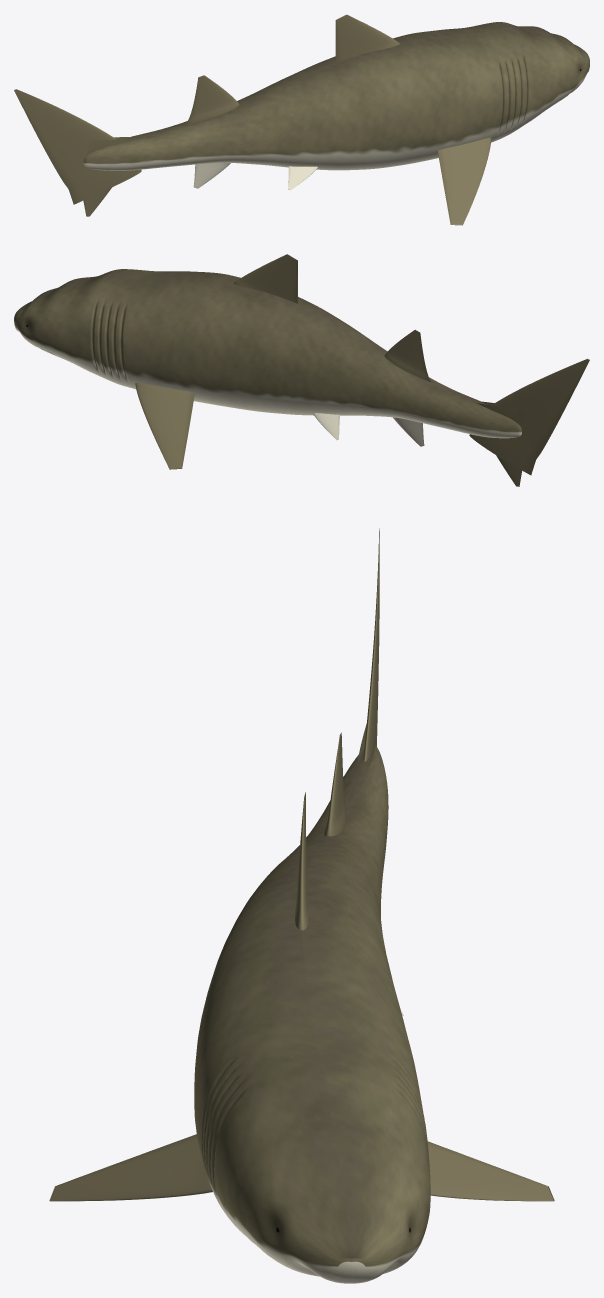
File: lemon_shark.glb
The picture shows the model from 3 angles, top to bottom: view 1: azimuth 30°, elevation 25°; view 2: azimuth 150°, elevation 25°; view 3: azimuth 270°, elevation 25°; orthographic projection. The views are drawn at different scales.
Visible parts, largest first — view 1: LemonShark_Body, LemonShark_Fins; view 2: LemonShark_Body, LemonShark_Fins; view 3: LemonShark_Body, LemonShark_Fins.
Part boxes in pixels (box(x1,y1,x2,y2)): LemonShark_Body: box(83, 22, 589, 170); LemonShark_Fins: box(14, 14, 491, 225); LemonShark_Body: box(14, 269, 521, 438); LemonShark_Fins: box(135, 254, 589, 486); LemonShark_Body: box(194, 746, 430, 1283); LemonShark_Fins: box(49, 528, 554, 1201).
Bounding box in the file's own units: 2.7 × 0.8083 × 1.05.
3 materials, 1 textured.
